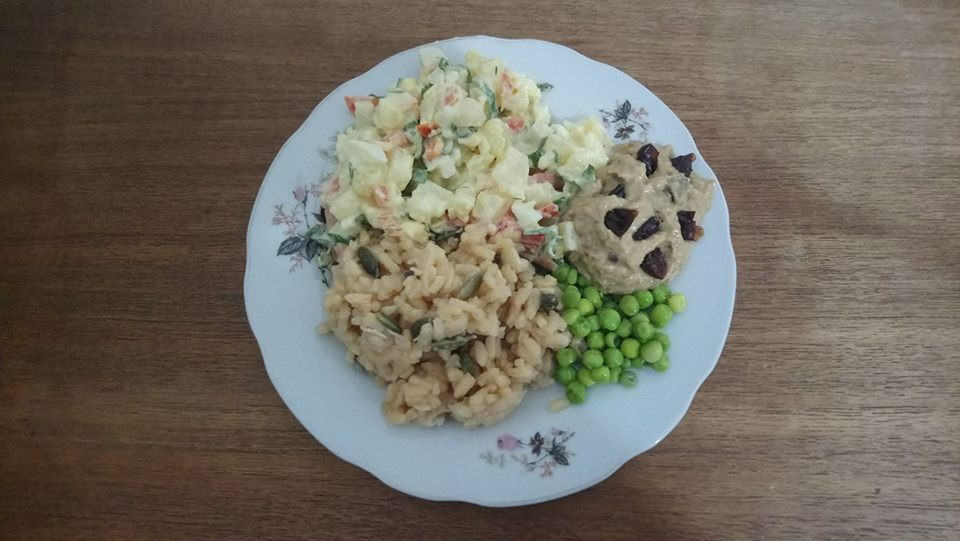boiled peas: (569, 300, 667, 382)
boiled potatoes: (367, 85, 518, 195)
